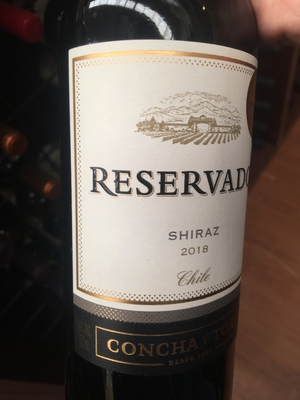reservado shiraz: (64, 28, 263, 400)
